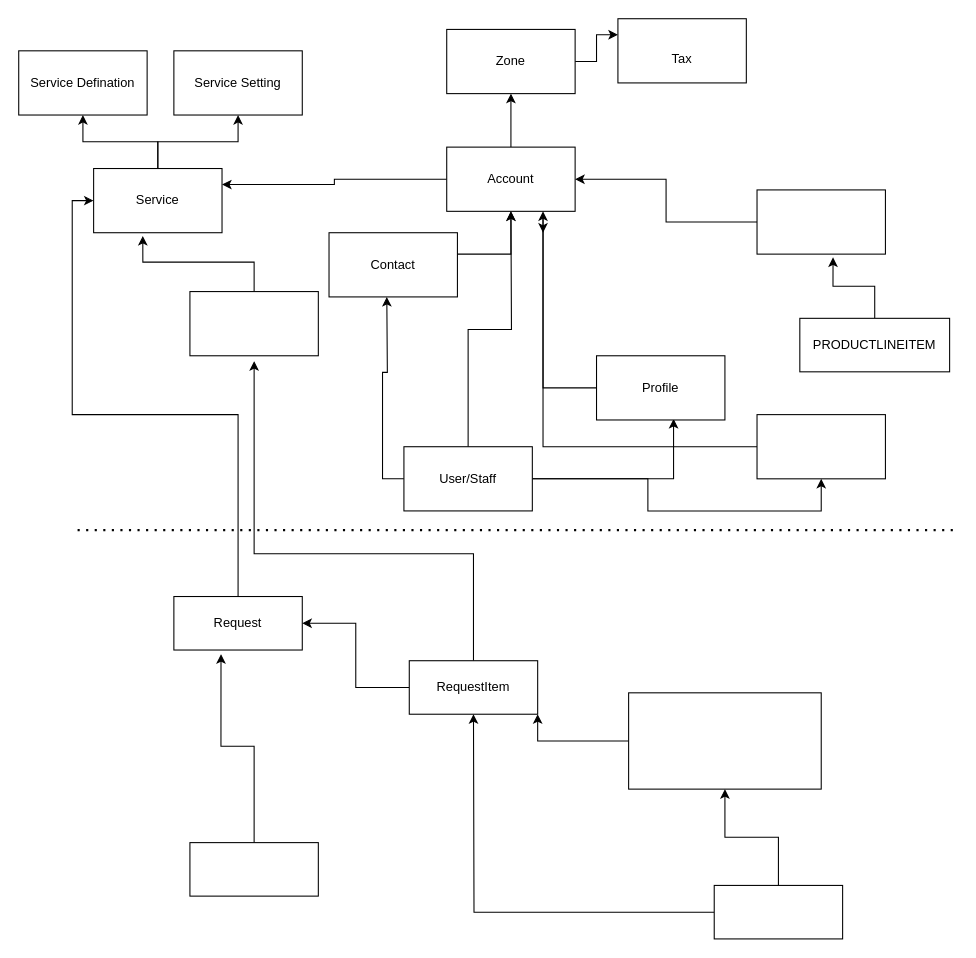
Some shapes in this 976 by 958 pixel diagram are drawn without their labels. The shapes that lost their labels are listed below. From the top down, each one's box as (x1, y1, x2, y2) in pixels, then its label:
(756, 189, 885, 254): Product
(189, 291, 318, 356): ServiceItem
(756, 414, 885, 479): PermissioSet
(628, 692, 821, 789): Cart
(189, 842, 318, 896): Invoice
(713, 884, 843, 939): productItem
